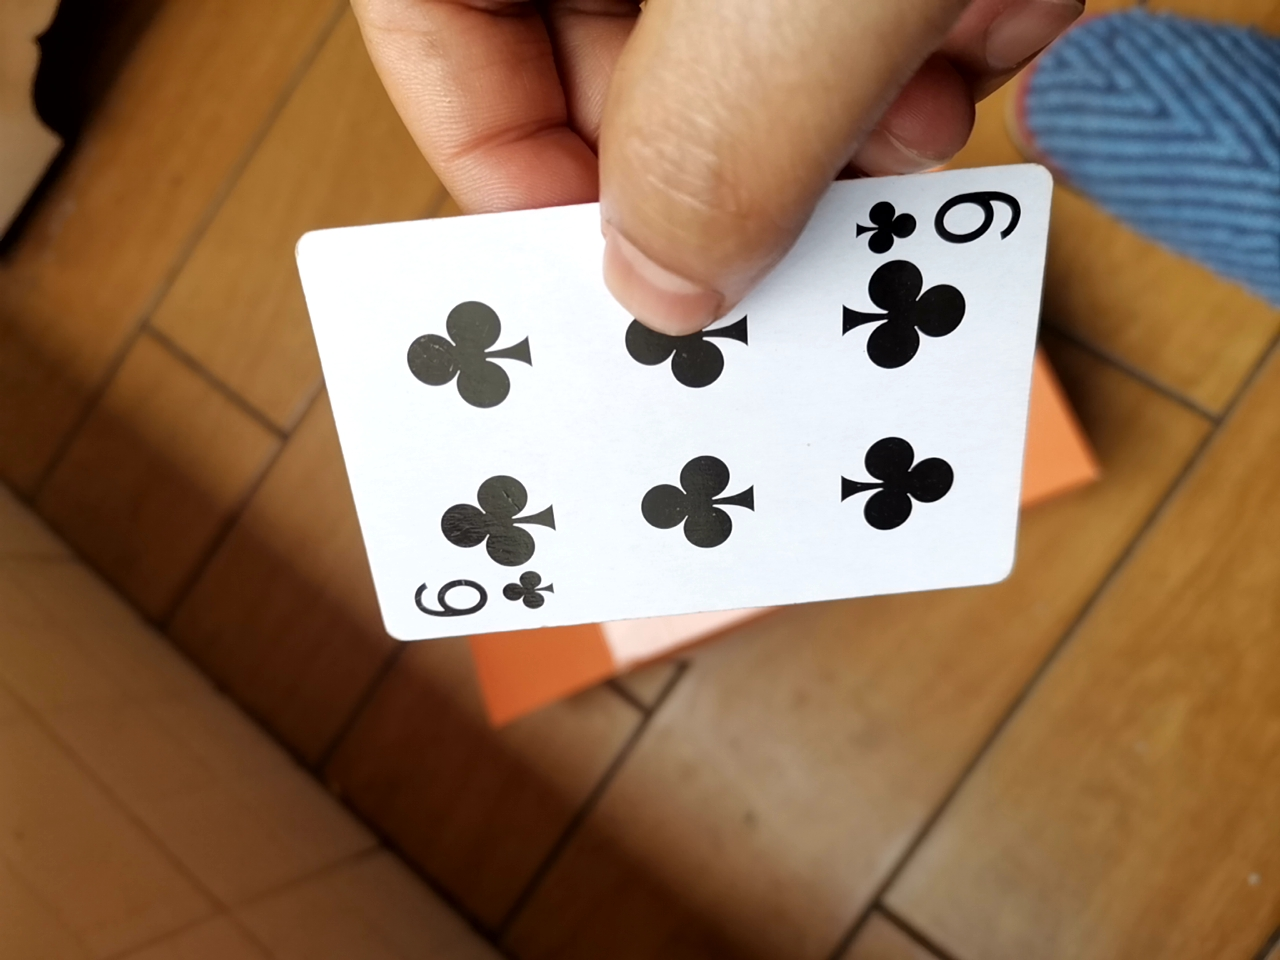mh 6: (268, 159, 1049, 656)
